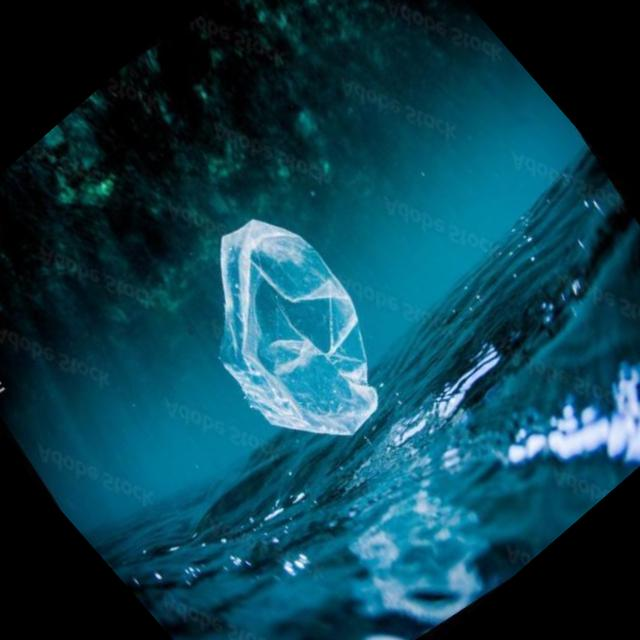KantongPlastik: (153, 194, 426, 476)
